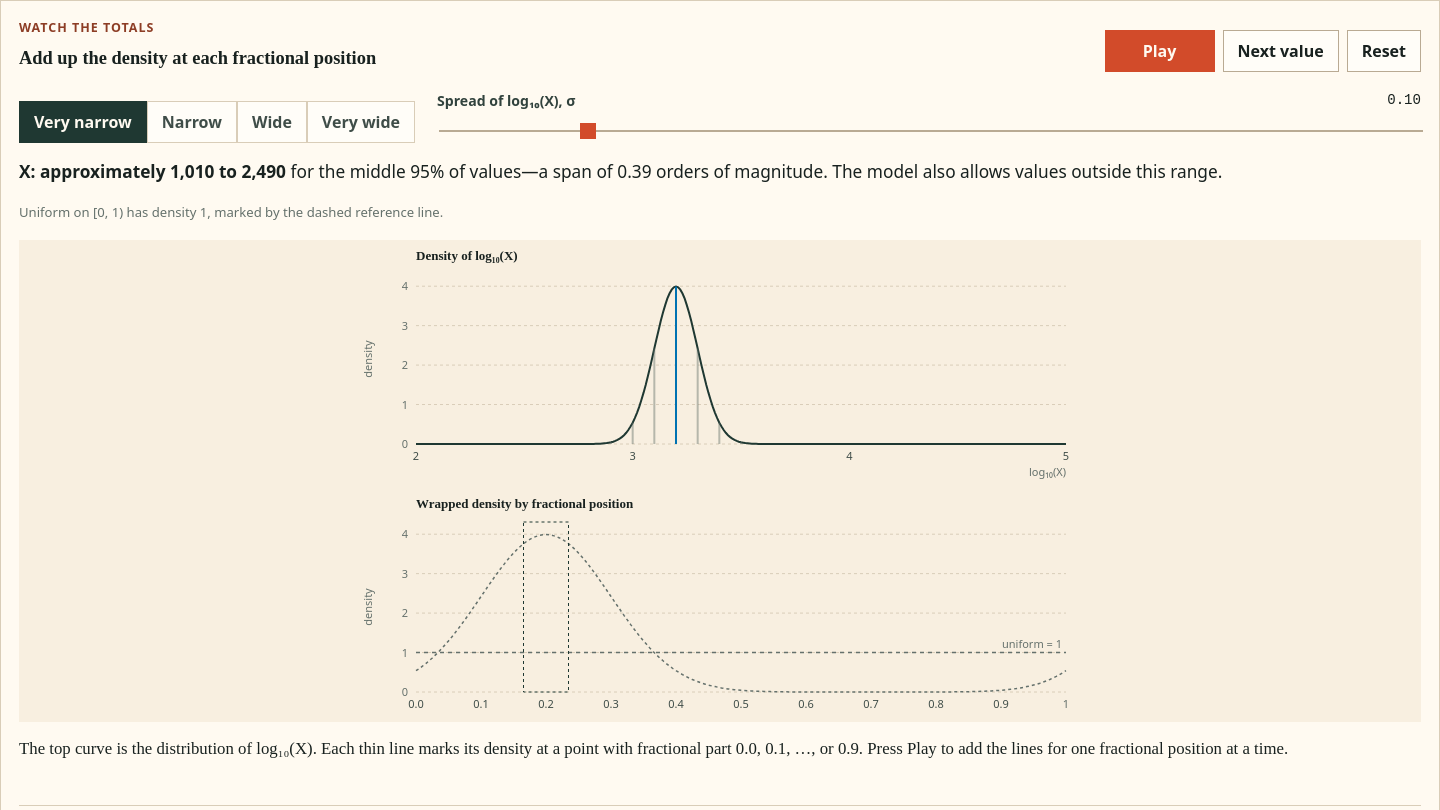
Test: WrapAnimation › stacks one fractional value at a time with Next value
The width and height of the screenshot is (1440, 810).
Click the button "Next value": (1281, 51) x1=1222 y1=30 x2=1339 y2=72
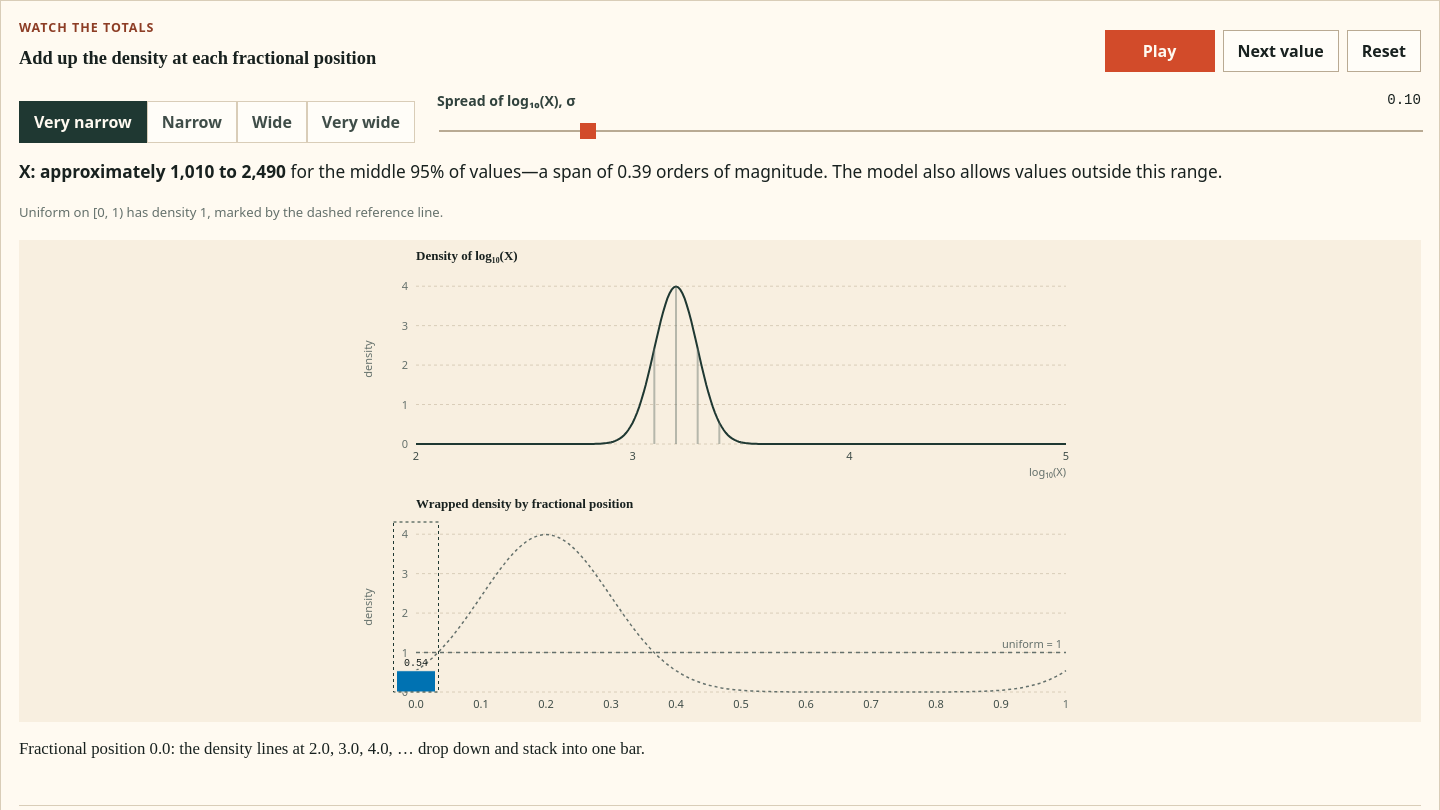
Expected: the picture named "1 of 10 fractional values stacked" is shown, x1=19 y1=240 x2=1421 y2=722
Click the button "Next value": (1281, 51) x1=1222 y1=30 x2=1339 y2=72
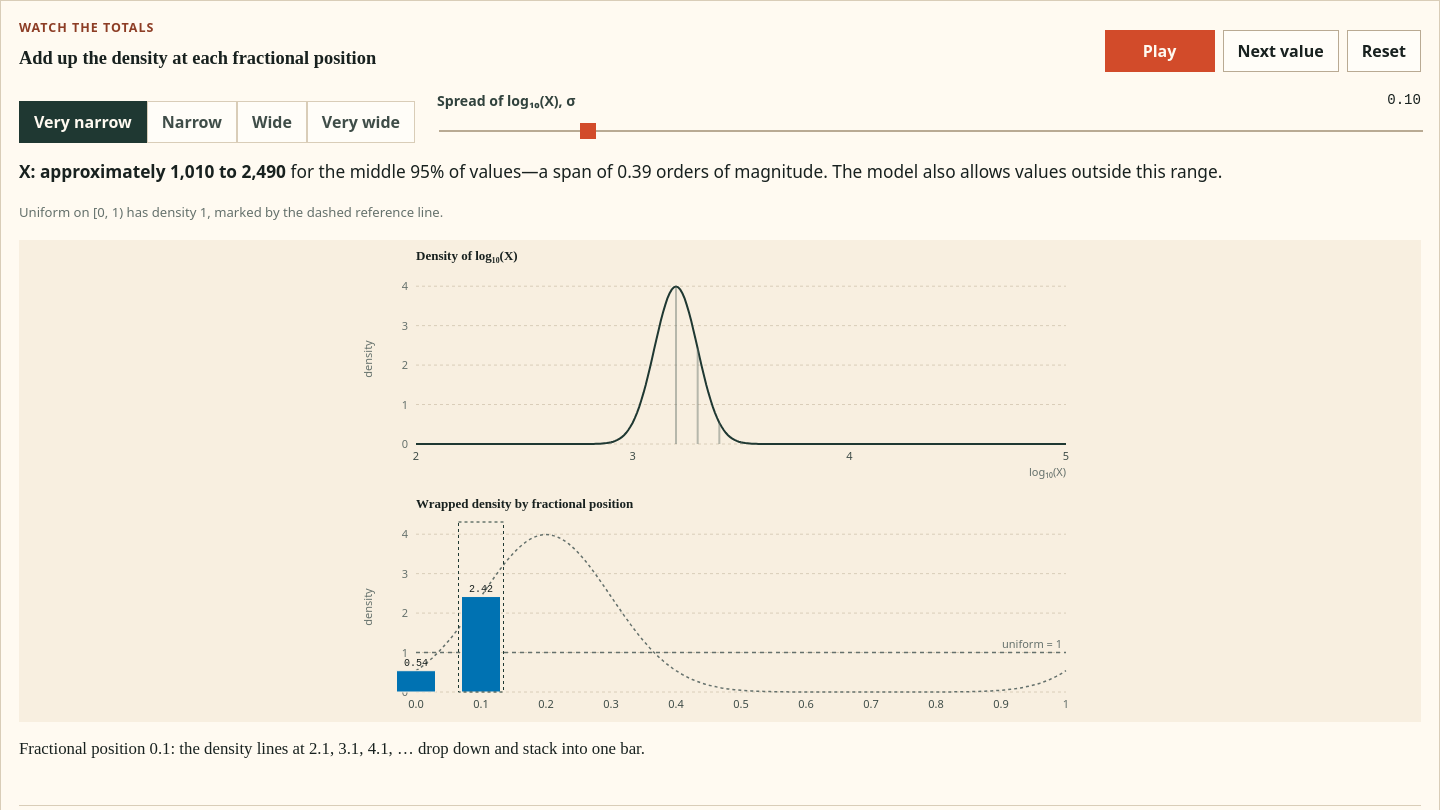
Expected: the picture named "2 of 10 fractional values stacked" is shown, x1=19 y1=240 x2=1421 y2=722
